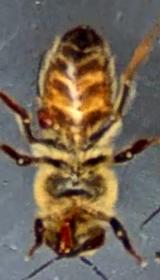varroa_mite: (23, 102, 65, 132)
